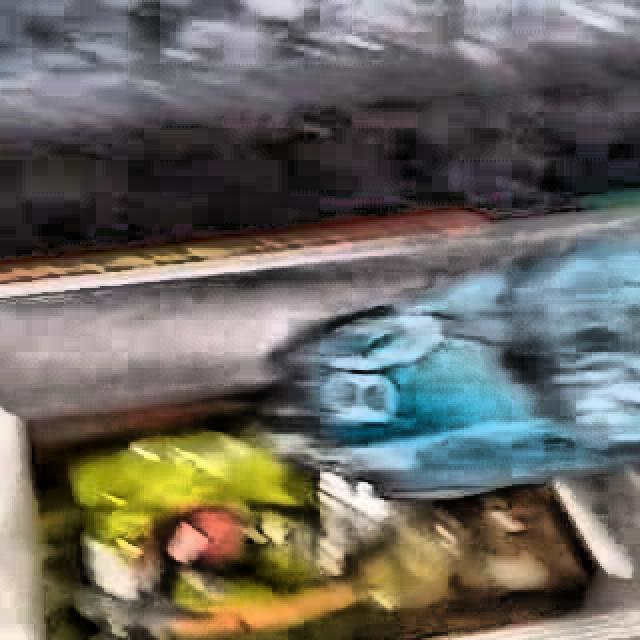plastic: (252, 208, 640, 502)
